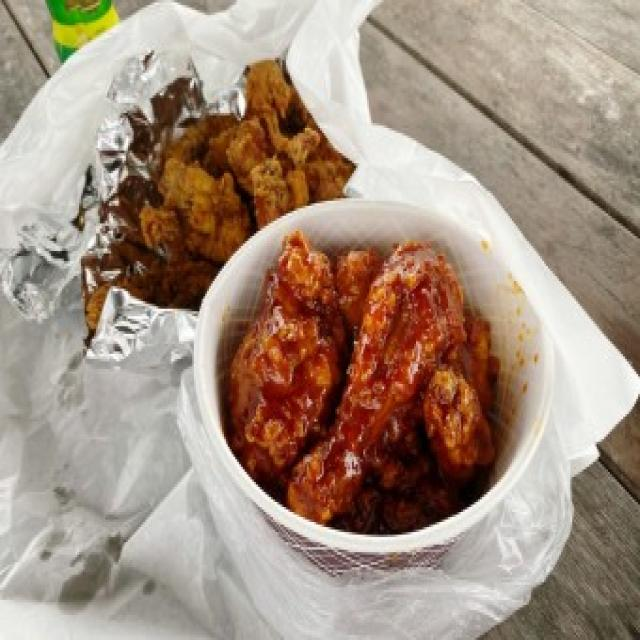Frango: (225, 244, 487, 513), (80, 52, 353, 291)
